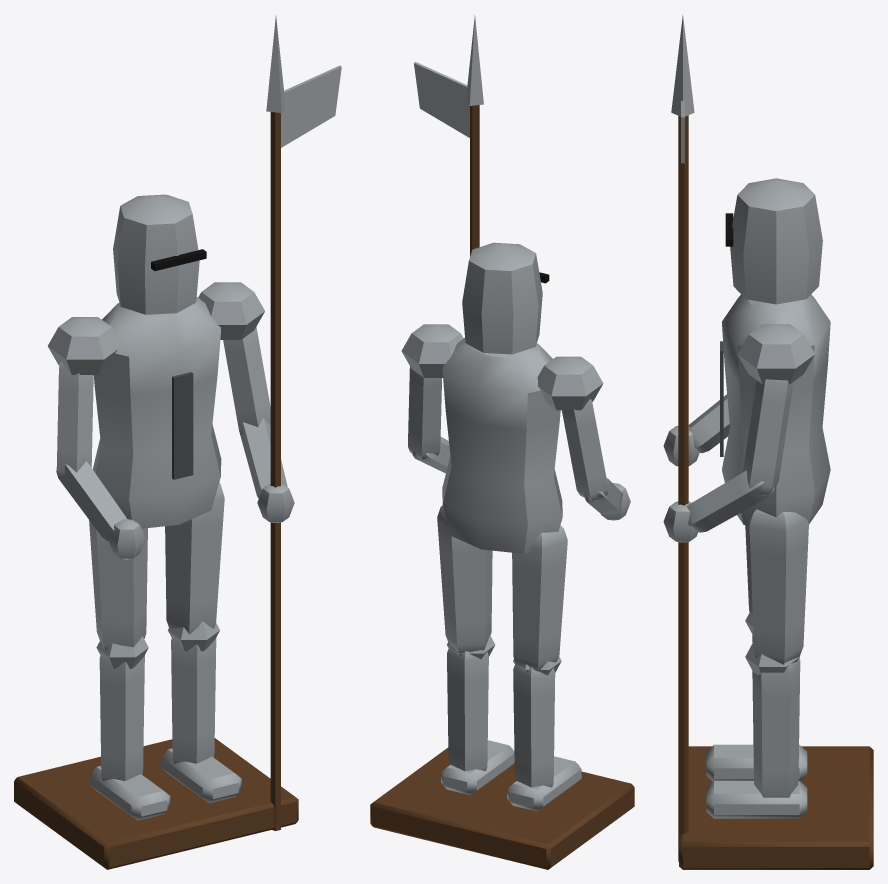
The model's file is armour_stand.glb.
3 views of the same model, side by side, from view 1: azimuth 30°, elevation 25°; view 2: azimuth 150°, elevation 25°; view 3: azimuth 270°, elevation 25° (orthographic). The views are drawn at different scales.
Parts seen in each view (by area): view 1: Armour; view 2: Armour; view 3: Armour.
Boxes of the visible parts, bbox=[...] form: Armour: bbox=[14, 15, 341, 869]; Armour: bbox=[370, 15, 634, 869]; Armour: bbox=[663, 15, 873, 869].
Size of the model in its own units: 0.7597 by 2.4 by 0.54.
